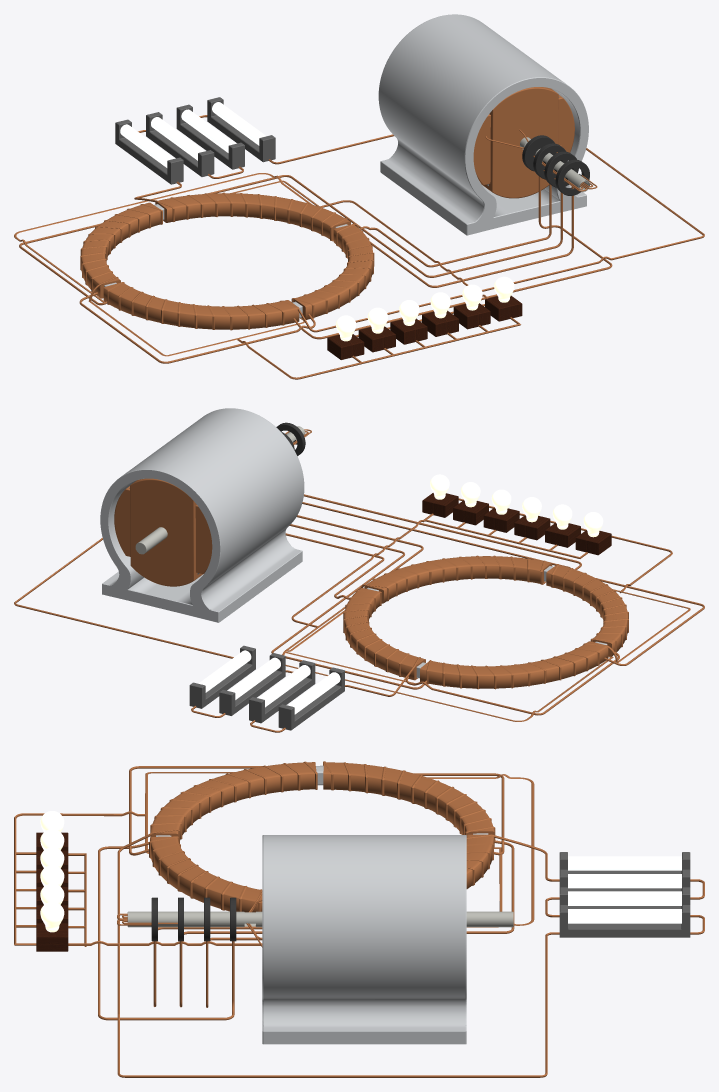
Rendered from Transformator.glb.
3 views of the same model, one above another, from view 1: azimuth 30°, elevation 25°; view 2: azimuth 150°, elevation 25°; view 3: azimuth 270°, elevation 25° (orthographic). The views are drawn at different scales.
Visible parts, largest first — view 1: Tube06, Tube15, Cylinder04, Box01, Line13, spoljna zica, Cylinder05, spoljna zica03, Box02, spoljna zica01, Box04, Box03 (+13 smaller); view 2: Tube06, Tube15, Cylinder04, Box01, Line13, Cylinder05, spoljna zica, spoljna zica01, spoljna zica03, Box02, Box05, Box04 (+12 smaller); view 3: Tube06, Tube15, Line13, Cylinder03, Box05, Box01, Cylinder09, Cylinder07, Cylinder01, Cylinder08, spoljna zica03, Line07 (+13 smaller).
Part boxes in pixels (x1,y1,x2,y2): Tube06: [378, 14, 588, 235]; Tube15: [81, 193, 373, 329]; Cylinder04: [481, 87, 558, 198]; Box01: [327, 295, 522, 359]; Line13: [134, 115, 704, 332]; spoljna zica: [14, 173, 347, 302]; Cylinder05: [473, 95, 574, 185]; spoljna zica03: [80, 204, 304, 356]; Box02: [115, 119, 183, 184]; spoljna zica01: [230, 180, 374, 319]; Box04: [176, 104, 244, 169]; Box03: [146, 112, 214, 176]; Tube06: [100, 408, 304, 622]; Tube15: [344, 556, 627, 688]; Cylinder04: [130, 478, 204, 586]; Box01: [422, 493, 611, 555]; Line13: [14, 502, 570, 732]; Cylinder05: [114, 486, 212, 573]; spoljna zica: [282, 590, 613, 721]; spoljna zica01: [285, 555, 545, 683]; spoljna zica03: [426, 589, 690, 689]; Box02: [278, 667, 344, 730]; Box05: [189, 645, 255, 708]; Box04: [219, 653, 285, 715]; Tube06: [262, 835, 466, 1044]; Tube15: [150, 762, 494, 912]; Line13: [117, 834, 704, 1077]; Cylinder03: [127, 911, 513, 927]; Box05: [559, 905, 690, 937]; Box01: [36, 832, 68, 951]; Cylinder09: [568, 909, 681, 923]; Cylinder07: [568, 874, 681, 888]; Cylinder01: [568, 856, 681, 870]; Cylinder08: [568, 891, 681, 905]; spoljna zica03: [145, 761, 495, 853]; Line07: [98, 842, 234, 1020].
Bounding box in the file's own units: 11.28 × 2.85 × 10.62.
13 materials, 1 textured.
